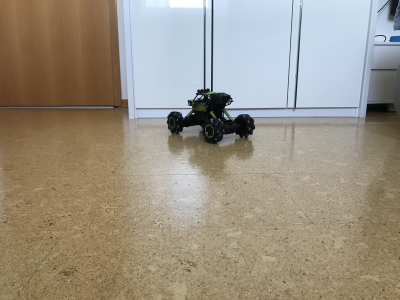remote control car: (164, 86, 257, 146)
